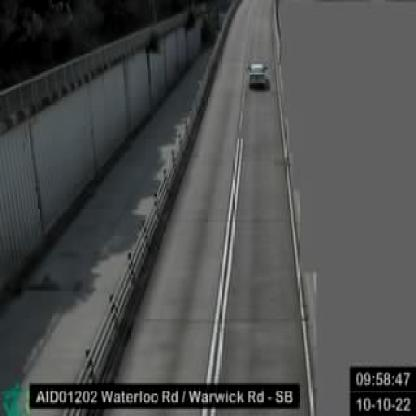Car: (249, 60, 268, 88)
